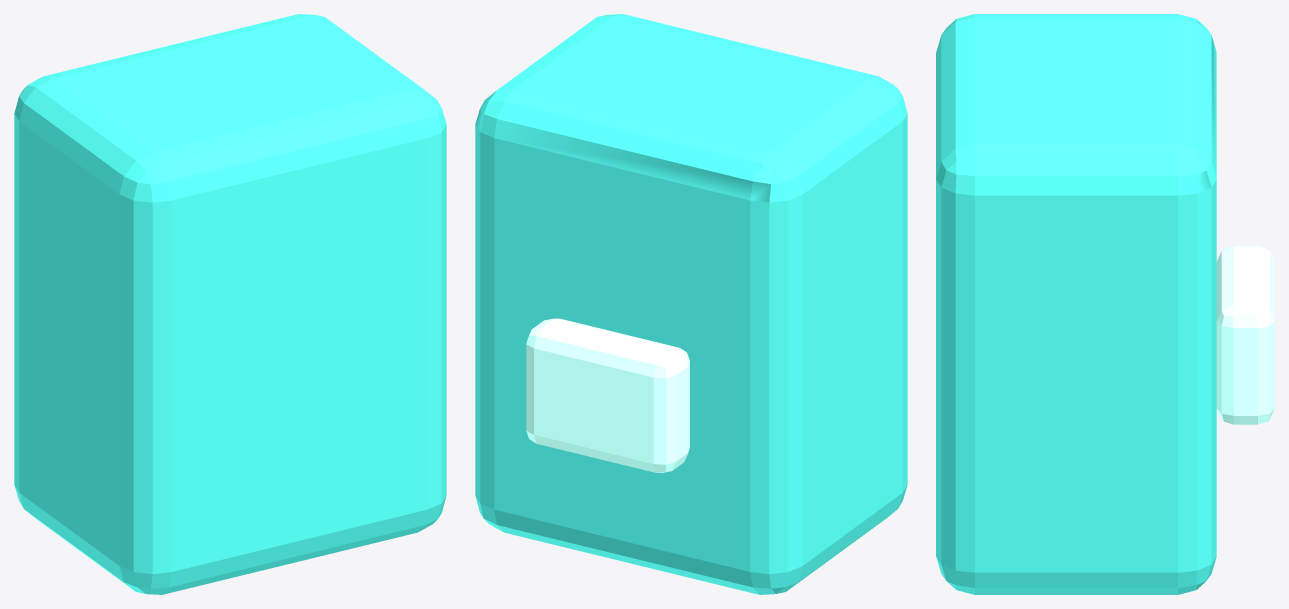
File: enemy.glb
3 renders of one model, left to right at view 1: azimuth 30°, elevation 25°; view 2: azimuth 150°, elevation 25°; view 3: azimuth 270°, elevation 25°, orthographic.
Parts seen in each view (by area): view 1: PlayerBody; view 2: PlayerBody, PlayerVisor; view 3: PlayerBody, PlayerVisor.
Part boxes in pixels (bbox=[...]): PlayerBody: bbox=[14, 14, 446, 594]; PlayerBody: bbox=[475, 14, 907, 594]; PlayerVisor: bbox=[526, 318, 689, 472]; PlayerBody: bbox=[936, 14, 1216, 594]; PlayerVisor: bbox=[1216, 245, 1274, 424].
Size of the model in its own units: 0.78 by 1.02 by 0.7.
